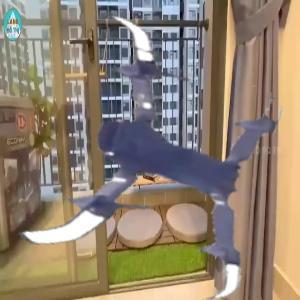drone: (5, 15, 284, 294)
